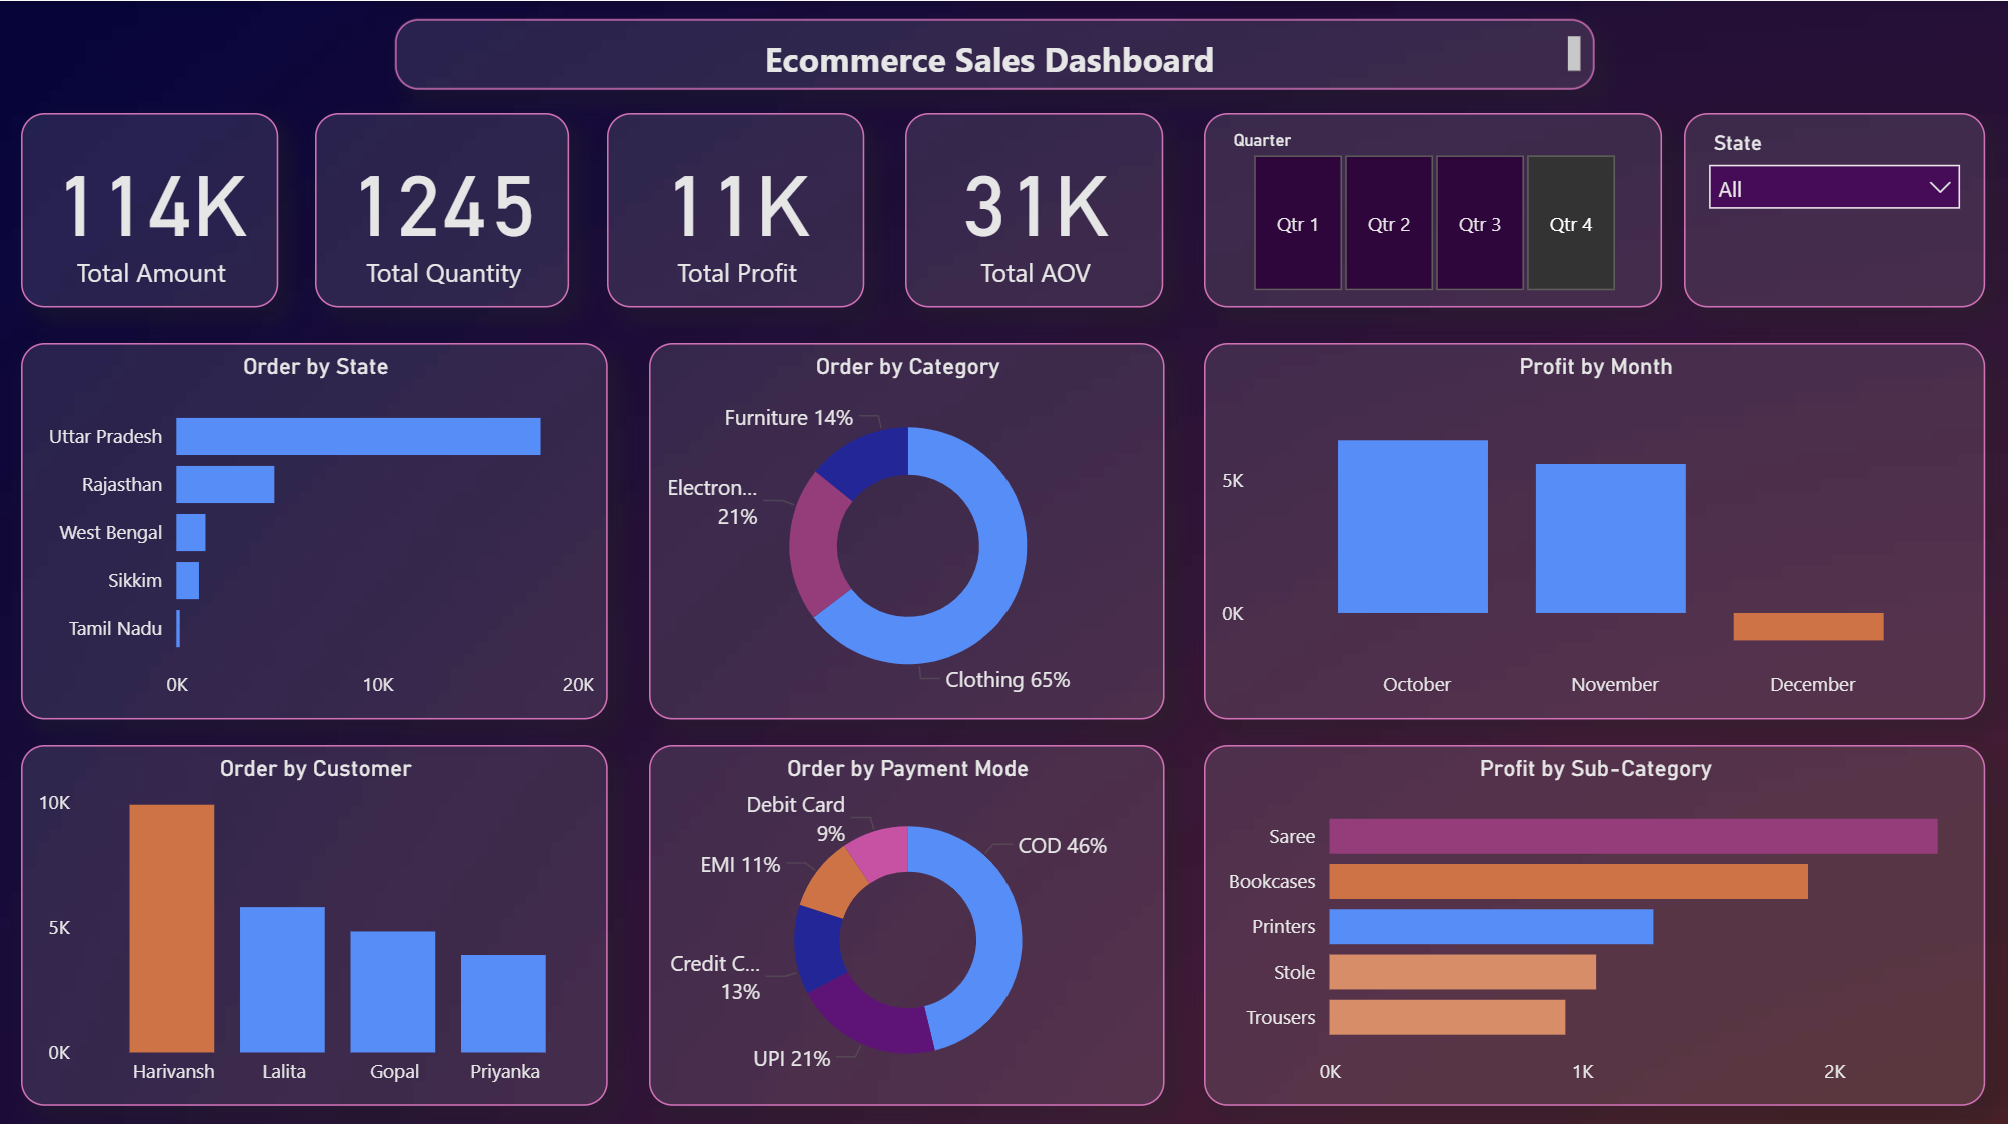

This screenshot's page, from the dashboard's own definition file:
{"tool":"powerbi","page":{"name":"Page 1","canvas":[1280,720],"ordinal":0},"visuals":[{"type":"textbox","box":[253,12,764,45],"z":0},{"type":"columnChart","title":"Profit by Month","fields":{"Y":["Sum(Details.Profit)"],"Category":["Orders.Order Date.Variation.Date Hierarchy.Month"]},"box":[768,218,498,240],"z":1000},{"type":"barChart","title":"Profit by Sub-Category","fields":{"Category":["Details.Sub-Category"],"Y":["Sum(Details.Profit)"]},"box":[768,474,498,230],"z":2000},{"type":"donutChart","title":"Order by Category","fields":{"Category":["Details.Category"],"Y":["Sum(Details.Quantity)"]},"box":[414,218,328,240],"z":3000},{"type":"donutChart","title":"Order by Payment Mode","fields":{"Category":["Details.PaymentMode","Details.Category"],"Y":["Sum(Details.Quantity)"]},"box":[414,474,328,230],"z":4000},{"type":"card","fields":{"Values":["Sum(Details.Amount)"]},"box":[14,72,164,124],"z":5000},{"type":"card","fields":{"Values":["Sum(Details.Quantity)"]},"box":[202,72,162,124],"z":6000},{"type":"card","fields":{"Values":["Sum(Details.Profit)"]},"box":[388,72,164,124],"z":7000},{"type":"card","fields":{"Values":["Sum(Details.AOV)"]},"box":[578,72,164,124],"z":8000},{"type":"barChart","title":"Order by State","fields":{"Category":["Orders.State"],"Y":["Sum(Details.Amount)"]},"box":[14,218,374,240],"z":9000},{"type":"columnChart","title":"Order by Customer","fields":{"Category":["Orders.CustomerName"],"Y":["Sum(Details.Amount)"]},"box":[14,474,374,230],"z":10000},{"type":"slicer","fields":{"Values":["Orders.Order Date.Variation.Date Hierarchy.Quarter"]},"box":[768,72,292,124],"z":11000},{"type":"slicer","fields":{"Values":["Orders.State"]},"box":[1074,72,192,124],"z":12000}]}

Visuals, with their boxes in screenshot pixels (x1, y1, x2, y2), scaled from the page's 1280x720 canvas onto the 2008x1124 screenshot:
textbox: 397,19,1595,89
"Profit by Month" columnChart: 1205,340,1986,715
"Profit by Sub-Category" barChart: 1205,740,1986,1099
"Order by Category" donutChart: 649,340,1164,715
"Order by Payment Mode" donutChart: 649,740,1164,1099
card - Sum(Details.Amount): 22,112,279,306
card - Sum(Details.Quantity): 317,112,571,306
card - Sum(Details.Profit): 609,112,866,306
card - Sum(Details.AOV): 907,112,1164,306
"Order by State" barChart: 22,340,609,715
"Order by Customer" columnChart: 22,740,609,1099
slicer - Orders.Order Date.Variation.Date Hierarchy.Quarter: 1205,112,1663,306
slicer - Orders.State: 1685,112,1986,306
